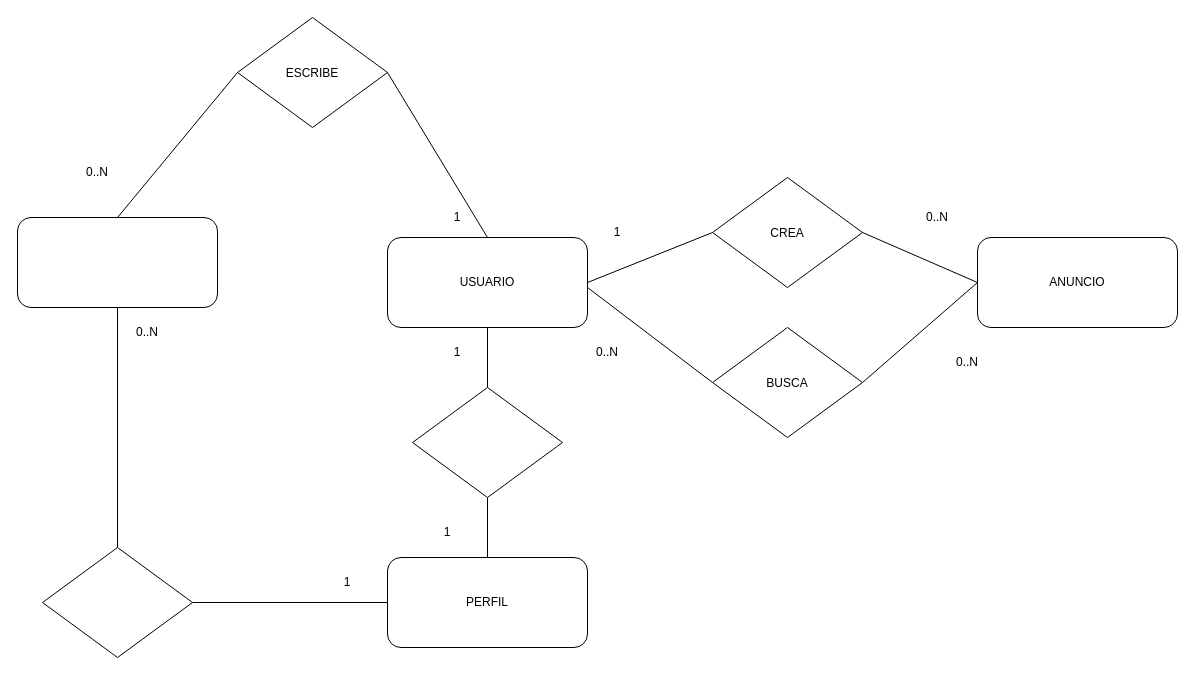
The diagram is 1195 pixels wide and 675 high, and some of its shapes have lost their labels. Each missing label, with the centre of its shape:
APARECE: point 117,602
RESEÑA: point 117,262
TIENE: point 487,442
